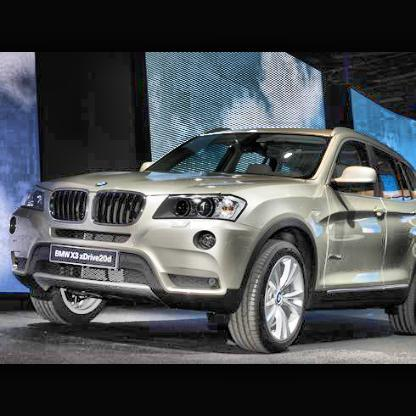BMW X3 SUV 2012: (8, 126, 416, 355)
